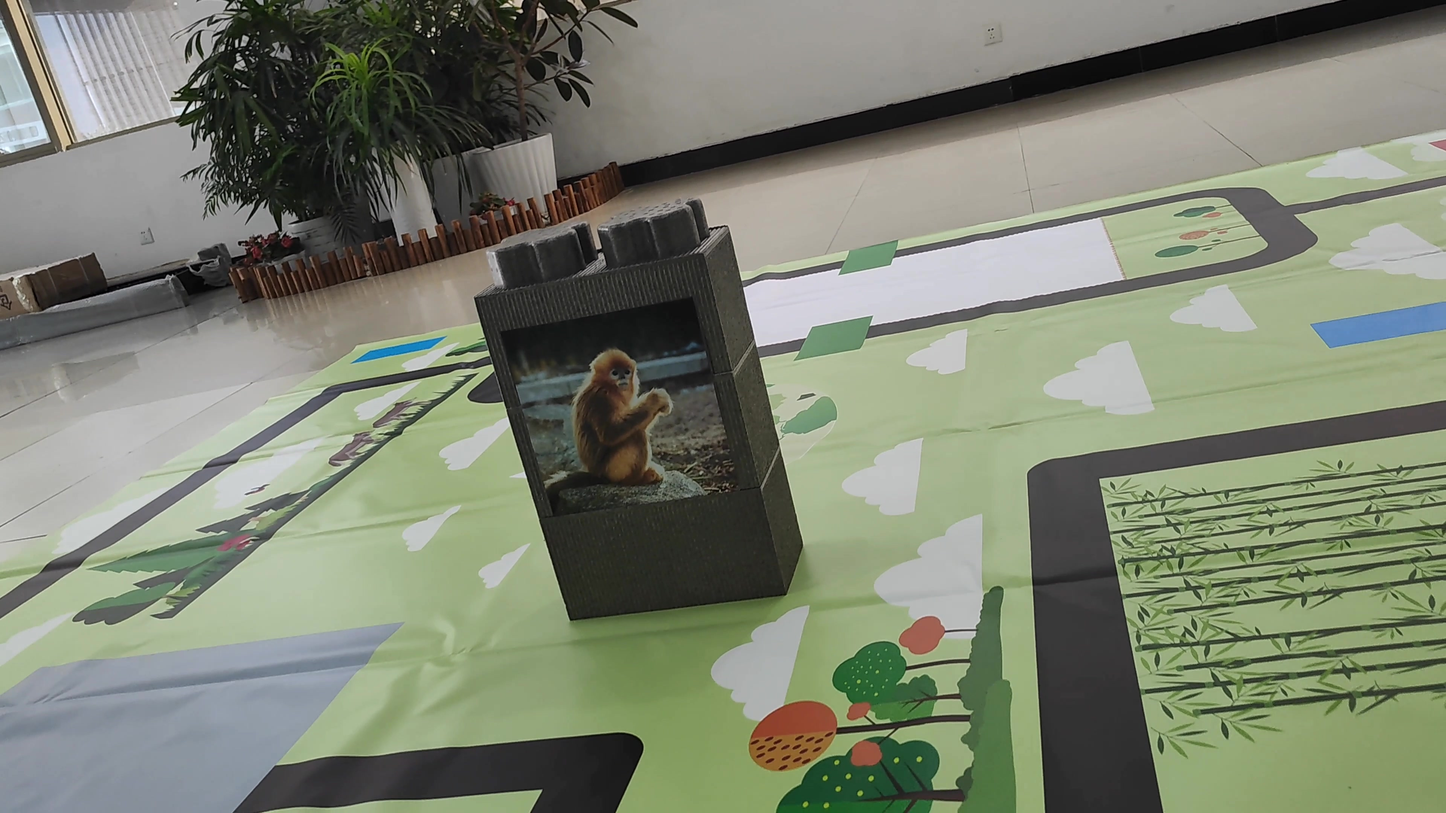monkey: (533, 329, 707, 525)
